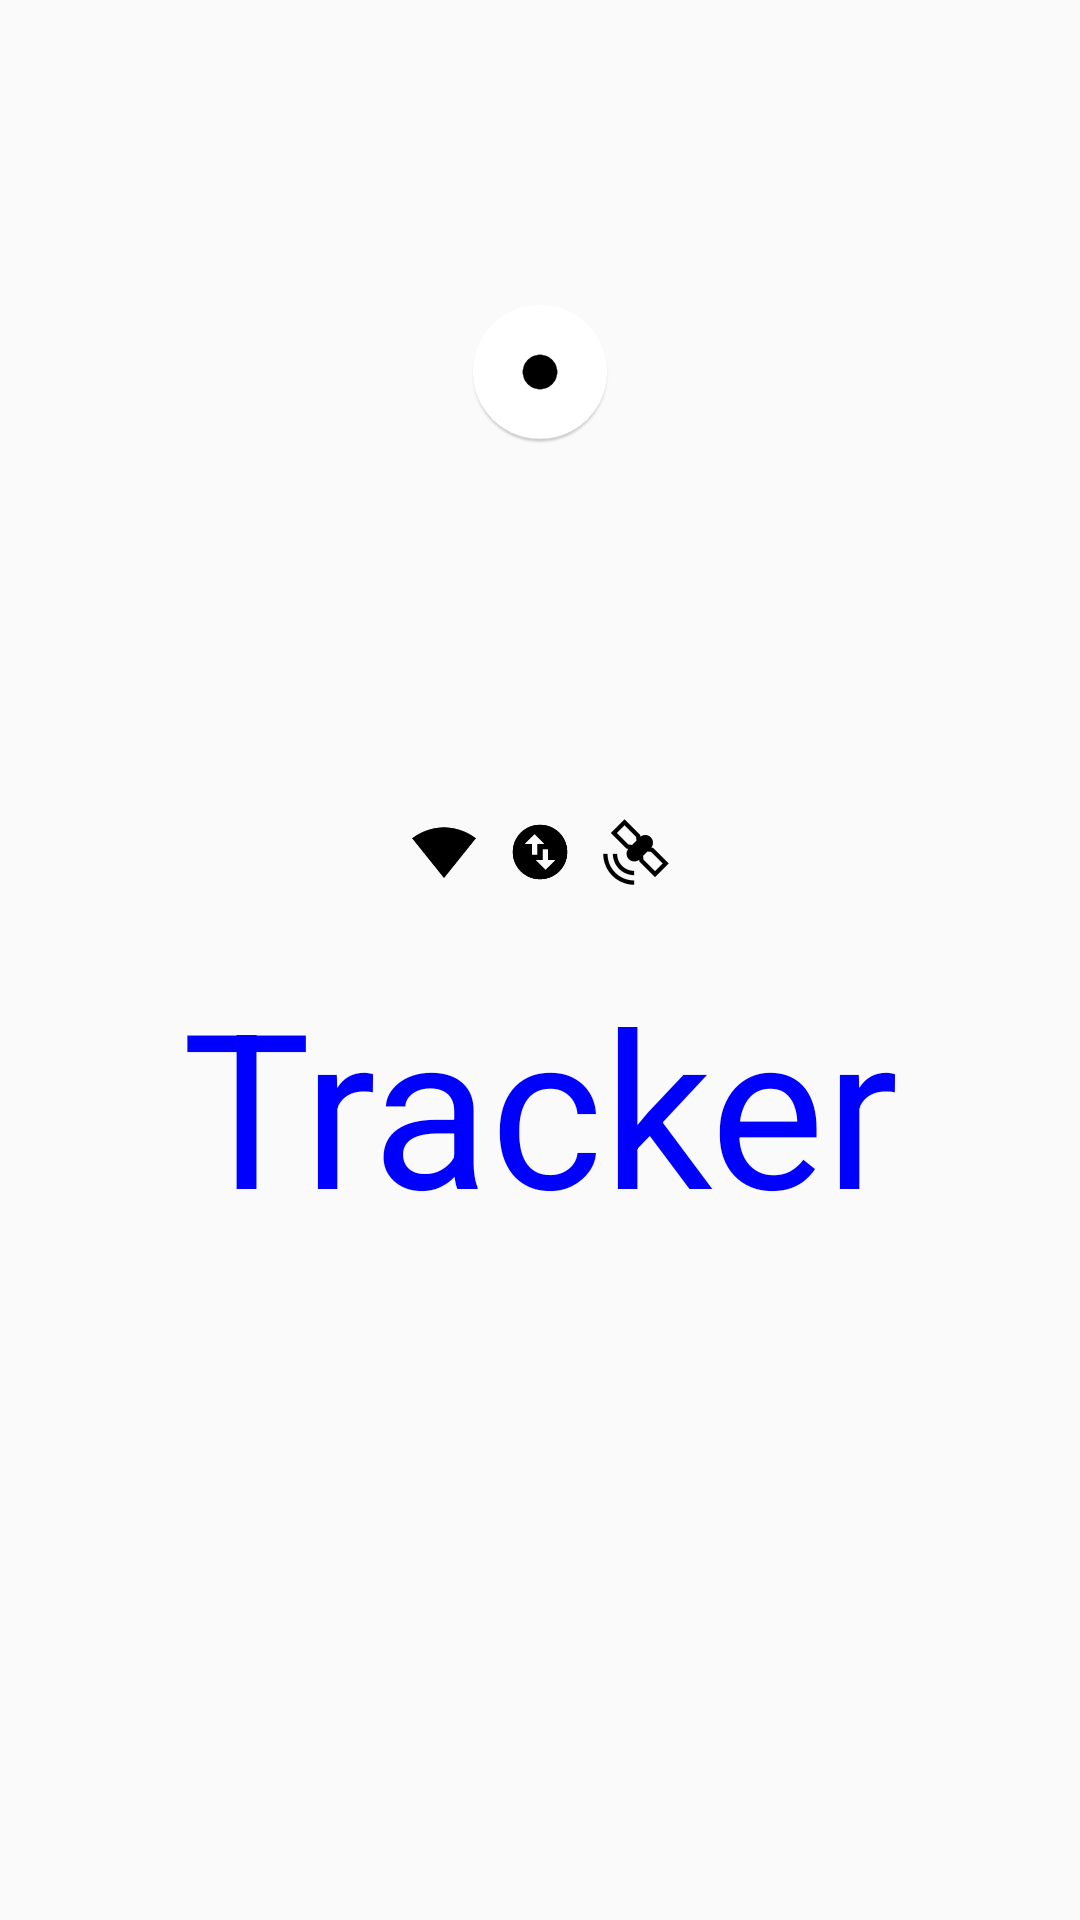

Where to tap for icons on this 1080*1920 app screen, as [x,y]:
device signal wifi: [444,852]
icona gps: [636,852]
mobile data: [540,852]
